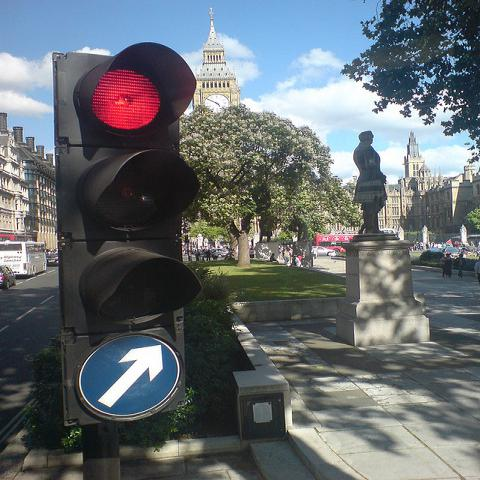bus: (0, 239, 47, 277), (316, 233, 358, 252)
car: (0, 265, 15, 290), (313, 246, 336, 256), (213, 248, 230, 260), (46, 256, 60, 266), (430, 248, 443, 253)
